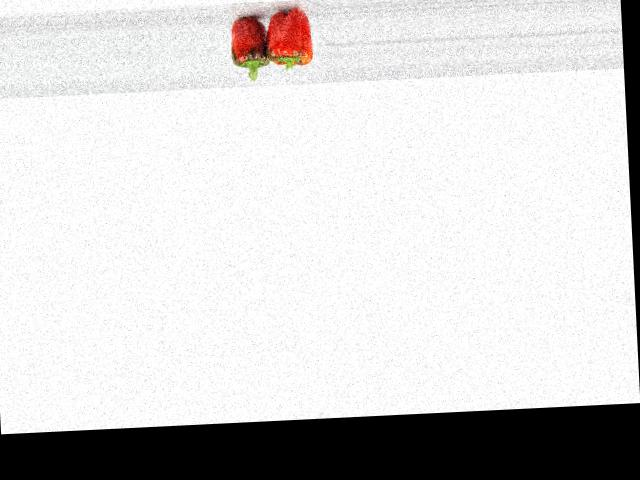bell_pepper: (266, 6, 321, 74)
